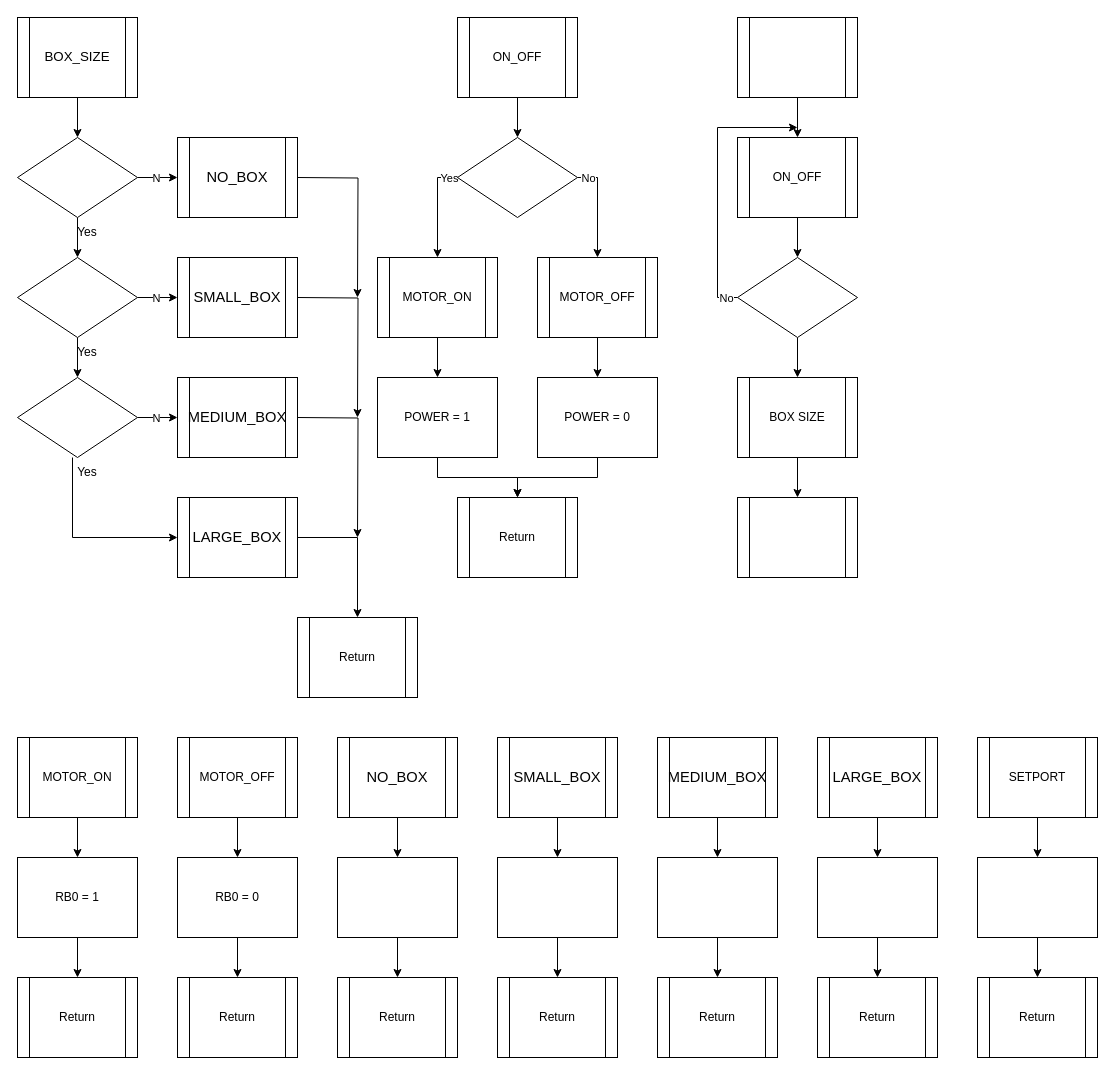
Image size: 1115x1075. Some labels were removed from this diagram. The shapes that lost their labels are listed below. From the top down, each one's centre as x and y in pixels, then its label:
the point at 797,57: Main
the point at 77,177: RA1 = 1?
the point at 517,177: RA0 = 1?
the point at 77,297: RA2 = 1?
the point at 797,297: POWER = 1?
the point at 77,417: RA3 = 1?
the point at 797,537: END
the point at 397,897: RB1 = 0 RB2 = 0 RB3 = 0
the point at 557,897: RB1 = 1 RB2 = 0 RB3 = 0
the point at 717,897: RB1 = 0 RB2 = 1 RB3 = 0
the point at 877,897: RB1 = 0 RB2 = 0 RB3 = 1
the point at 1037,897: TRISA = 0x0F TRISB = 0x00
